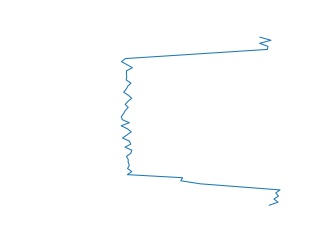distributaryChannelFill: (117, 37, 288, 205)
